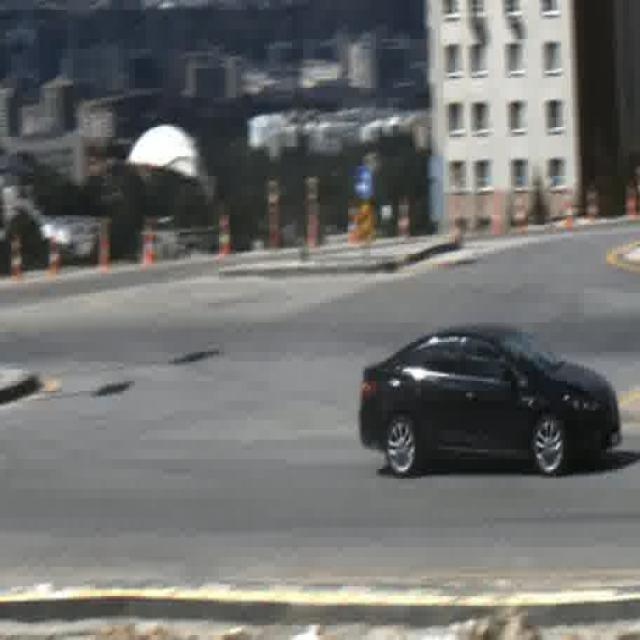Car: (360, 325, 622, 471)
